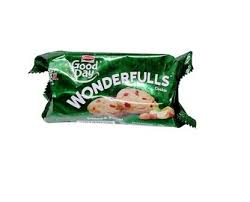gooday-medium: (42, 50, 190, 122)
